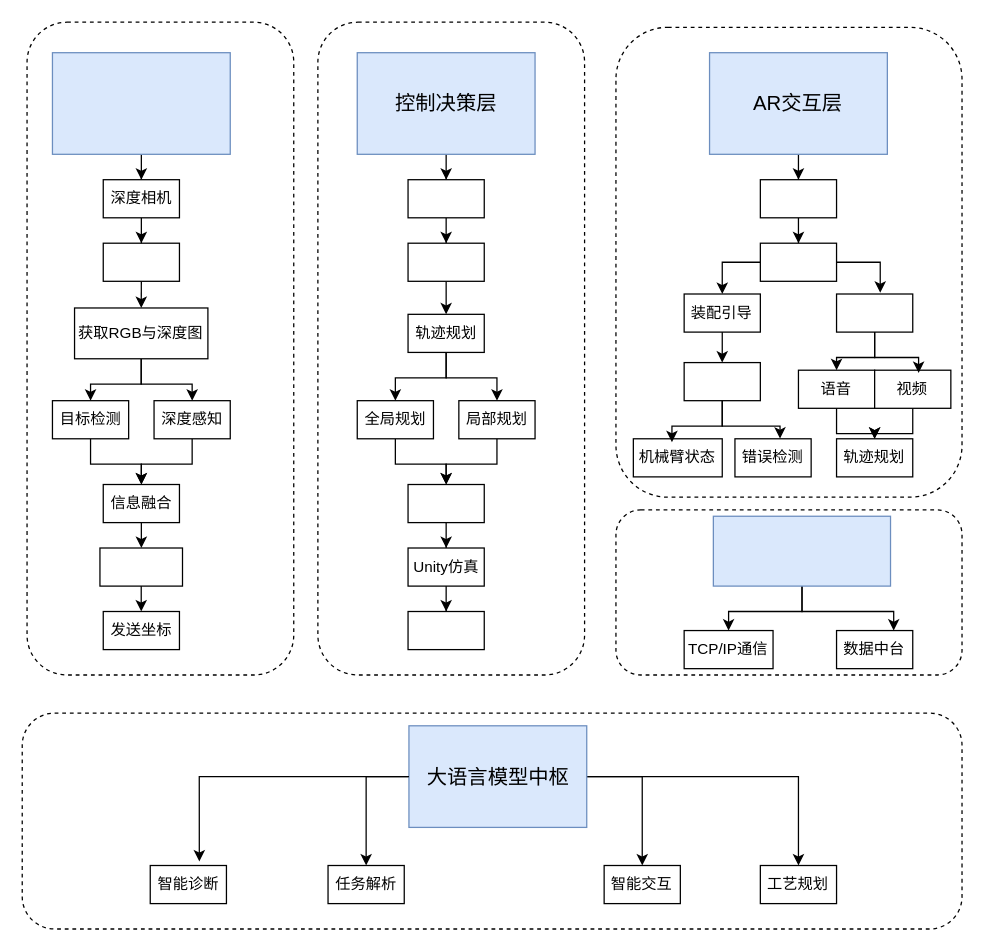
Image size: 984x951. Some labels were removed from this diagram. The box of each missing label's shape, as (x1, y1, x2, y2) in pixels:
A*算法: (407, 483, 484, 523)
Hololens2: (759, 178, 837, 218)
TF变换: (99, 547, 182, 586)
UR机械臂: (407, 178, 484, 218)
发送预警: (407, 610, 484, 650)
安全预警: (835, 293, 913, 332)
实时反馈: (683, 361, 760, 401)
手眼标定: (407, 242, 484, 281)
智能感知层: (51, 51, 230, 154)
环境建模: (759, 242, 837, 281)
相机标定: (102, 242, 179, 281)
系统集成层: (712, 515, 891, 586)
